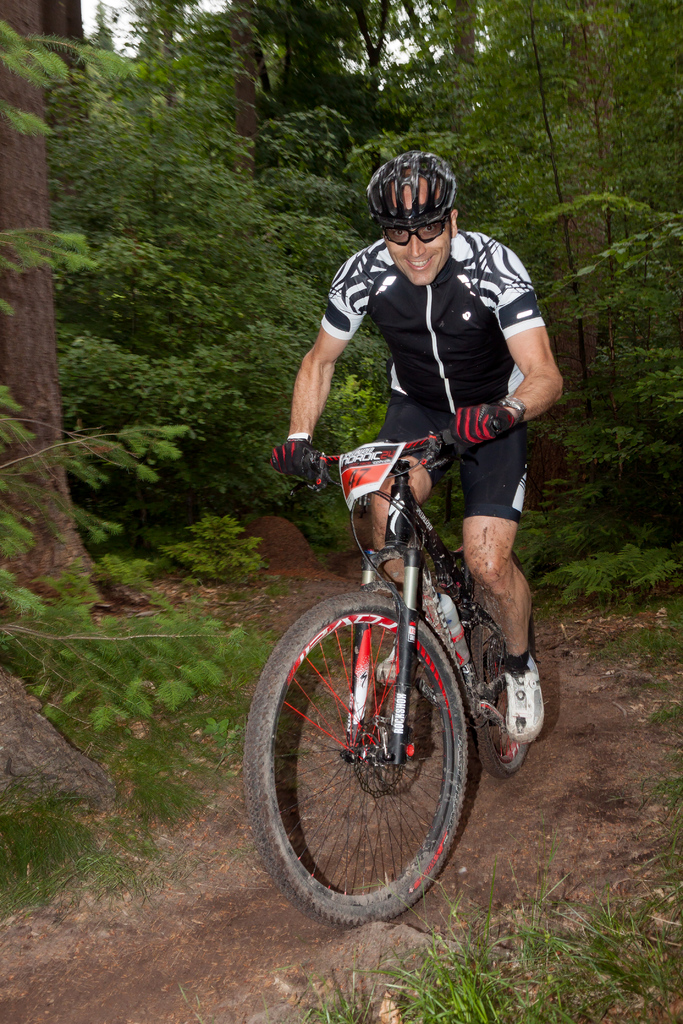Bike: (247, 415, 557, 921)
